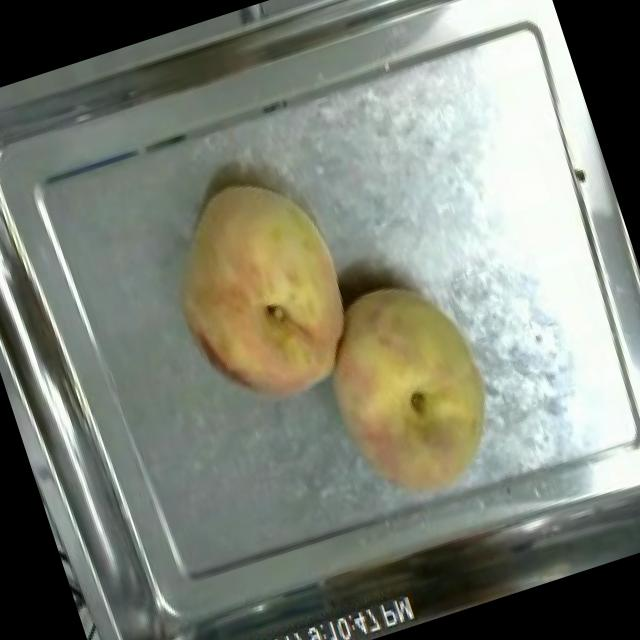Fruit: (140, 156, 381, 434), (297, 258, 524, 526)
